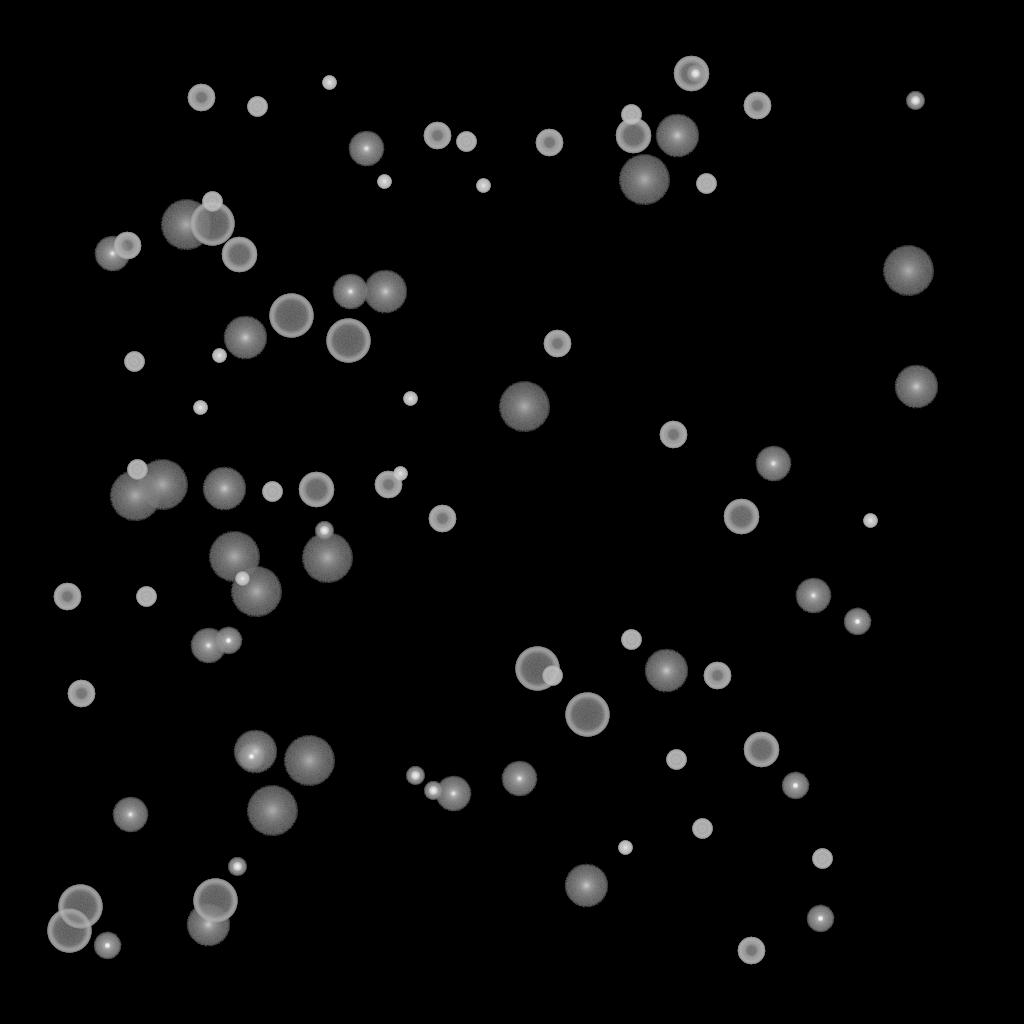depth:-10: (843, 608, 871, 636), (93, 932, 121, 960), (781, 772, 809, 800), (237, 743, 265, 771), (214, 627, 242, 655), (806, 905, 834, 933)
depth:-20: (906, 92, 924, 110), (424, 782, 442, 800), (686, 65, 704, 83), (228, 858, 246, 876), (315, 522, 333, 540), (406, 767, 424, 785)
depth:-30: (322, 76, 336, 90), (212, 349, 226, 363), (193, 401, 207, 415), (377, 175, 391, 189), (618, 841, 632, 855), (235, 572, 249, 586), (863, 514, 877, 528), (403, 392, 417, 406), (476, 179, 490, 193), (393, 467, 407, 481)
depth:-40: (621, 630, 641, 650), (136, 587, 156, 607), (124, 352, 144, 372), (696, 174, 716, 194), (692, 819, 712, 839), (542, 666, 562, 686), (127, 460, 147, 480), (262, 482, 282, 502), (456, 132, 476, 152), (812, 849, 832, 869), (666, 750, 686, 770), (621, 105, 641, 125), (247, 97, 267, 117), (202, 192, 222, 212)
depth:-50: (543, 330, 571, 358), (737, 937, 765, 965), (113, 232, 141, 260), (53, 583, 81, 611), (423, 122, 451, 150), (67, 680, 95, 708), (374, 471, 402, 499), (187, 84, 215, 112), (743, 92, 771, 120), (659, 421, 687, 449), (535, 129, 563, 157), (428, 505, 456, 533), (703, 662, 731, 690)
depth:-60: (673, 56, 709, 92), (221, 237, 257, 273), (743, 732, 779, 768), (723, 499, 759, 535), (615, 118, 651, 154), (298, 472, 334, 508)
depth:-70: (565, 693, 609, 737), (190, 202, 234, 246), (58, 885, 102, 929), (326, 319, 370, 363), (515, 647, 559, 691), (269, 294, 313, 338), (47, 909, 91, 953), (193, 879, 237, 923)
depth:0: (190, 628, 226, 664), (112, 797, 148, 833), (755, 446, 791, 482), (348, 131, 384, 167), (795, 578, 831, 614), (332, 274, 368, 310), (501, 761, 537, 797), (435, 776, 471, 812), (94, 236, 130, 272)
depth:10: (202, 467, 246, 511), (363, 270, 407, 314), (223, 316, 267, 360), (564, 864, 608, 908), (644, 649, 688, 693), (186, 903, 230, 947), (894, 365, 938, 409), (233, 730, 277, 774), (655, 114, 699, 158)
depth:20: (882, 246, 934, 296), (618, 155, 670, 205), (230, 567, 282, 617), (109, 471, 161, 521), (301, 533, 353, 583), (246, 786, 298, 836), (160, 200, 212, 250), (136, 460, 188, 510), (283, 736, 335, 786), (498, 382, 550, 432), (208, 532, 260, 582)
